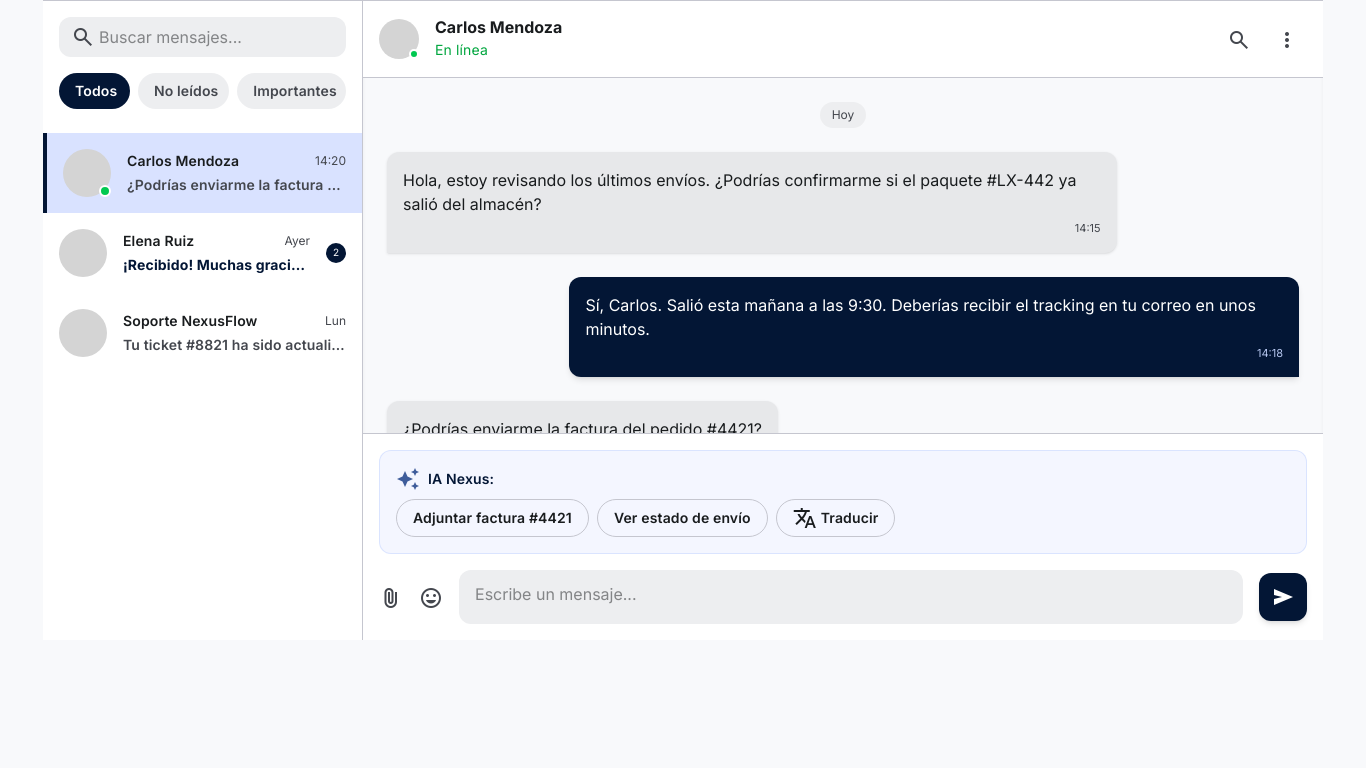
Test: MessagingPage › filters threads when typing in search
The width and height of the screenshot is (1366, 768).
Type "Elena" into the search field with placeholder "Buscar mensajes...".
click(202, 37); type("Elena")  # box top-left (59, 17), bottom-right (346, 57)
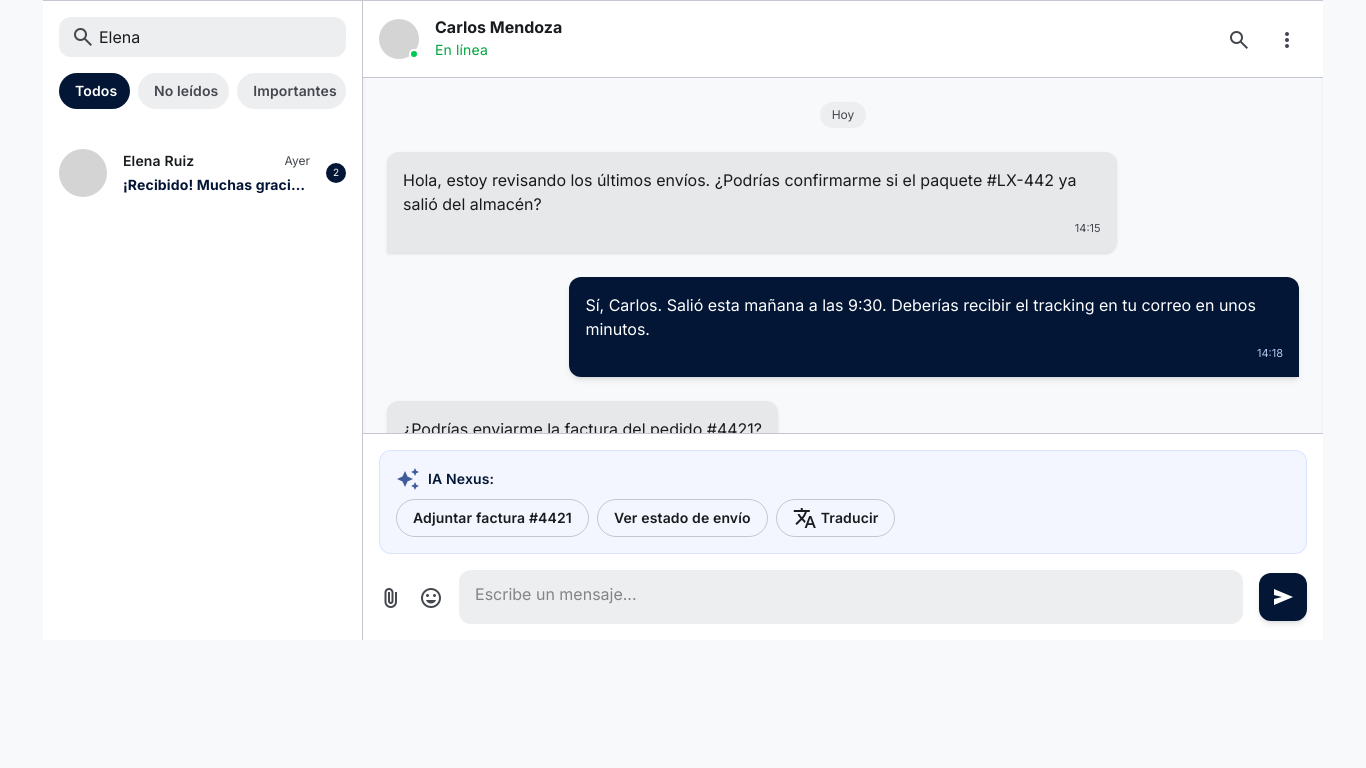
Expected: the heading "Elena Ruiz" is shown, top-left (123, 151), bottom-right (194, 171)
Now the button "Soporte NexusFlow" is gone
